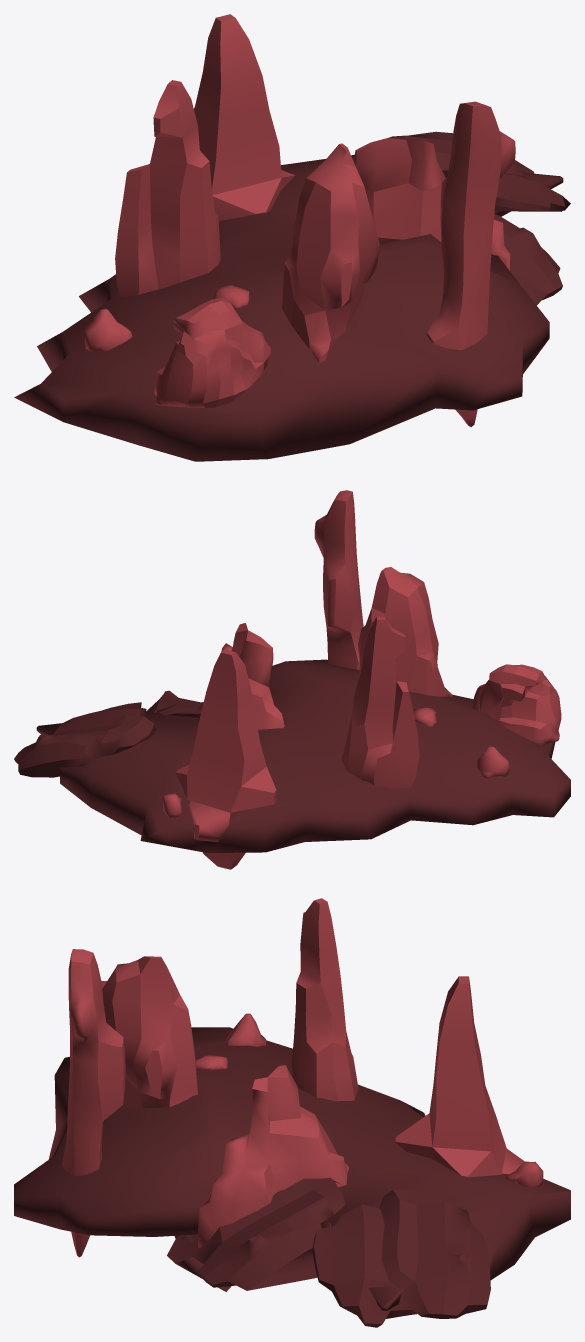
File: pile_red.glb
3 views of the same model, one above another, from view 1: azimuth 30°, elevation 25°; view 2: azimuth 150°, elevation 25°; view 3: azimuth 270°, elevation 25° (orthographic). The views are drawn at different scales.
Parts seen in each view (by area): view 1: rock.007, rock.009, rock.008, rock.011, rock.004, rock.017, rock.026, rock.006, rock.001, rock.030, rock.035; view 2: rock.007, rock.004, rock.009, rock.011, rock.008, rock.006, rock.017, rock.026, rock.001, rock.030; view 3: rock.007, rock.006, rock.026, rock.004, rock.001, rock.008, rock.011, rock.009, rock.030, rock.032.
Boxes of the visible parts, x1,y1,x2,y2 form: rock.007: (14, 155, 563, 461); rock.009: (115, 80, 220, 297); rock.008: (282, 143, 379, 362); rock.011: (426, 101, 515, 427); rock.004: (194, 14, 295, 220); rock.017: (154, 298, 270, 407); rock.026: (353, 138, 510, 270); rock.006: (388, 131, 570, 211); rock.001: (494, 214, 562, 305); rock.030: (84, 308, 132, 351); rock.035: (212, 285, 249, 308); rock.007: (36, 659, 570, 852); rock.004: (176, 649, 276, 869); rock.009: (341, 616, 419, 788); rock.011: (314, 490, 363, 669); rock.008: (358, 567, 452, 697); rock.006: (14, 702, 156, 777); rock.017: (471, 664, 561, 745); rock.026: (221, 623, 284, 729); rock.001: (146, 690, 203, 720); rock.030: (476, 746, 509, 778); rock.007: (14, 1027, 570, 1310); rock.006: (312, 1189, 490, 1327); rock.026: (198, 1065, 348, 1247); rock.004: (395, 976, 524, 1177); rock.001: (167, 1177, 346, 1291); rock.008: (102, 956, 197, 1108); rock.011: (62, 949, 125, 1257); rock.009: (291, 898, 358, 1101); rock.030: (226, 1013, 265, 1046); rock.032: (506, 1161, 543, 1187).
Bounding box in the file's own units: 34.94 × 18.17 × 28.82.
